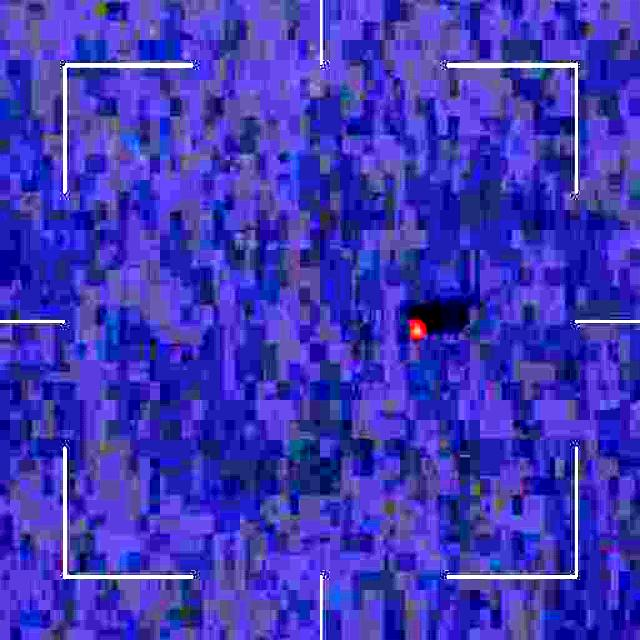bird: (408, 311, 439, 351)
